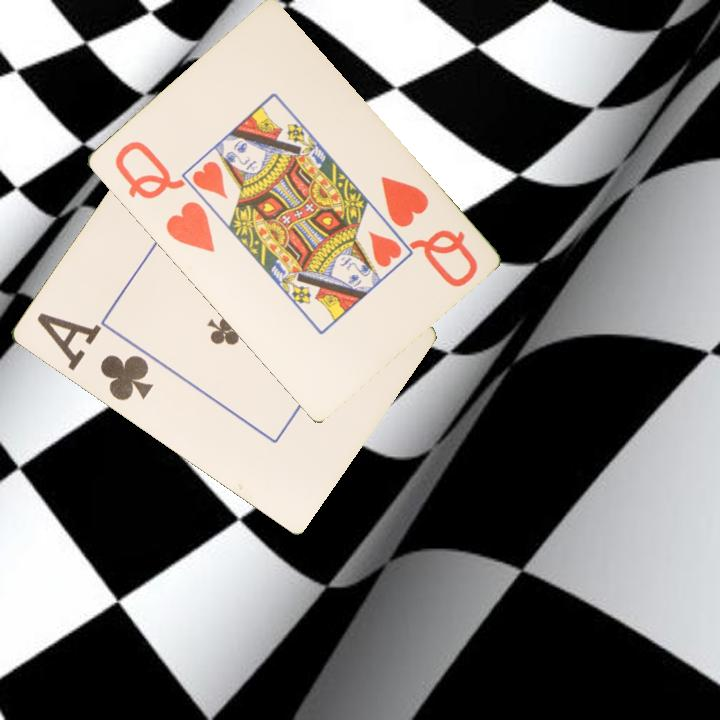Ac: (32, 308, 156, 404)
Qh: (110, 137, 218, 256), (376, 172, 481, 290)
